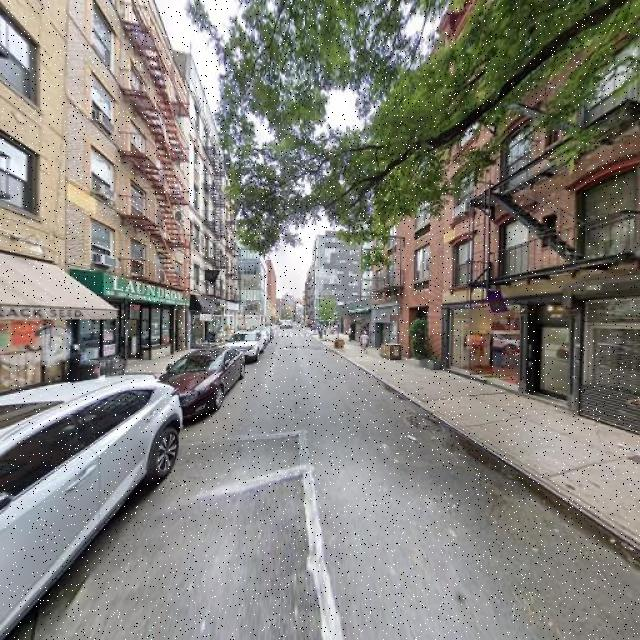Building: (445, 1, 640, 424), (59, 1, 185, 387), (373, 43, 441, 367), (1, 1, 52, 404)
